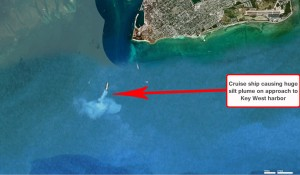ship: (104, 80, 122, 97)
